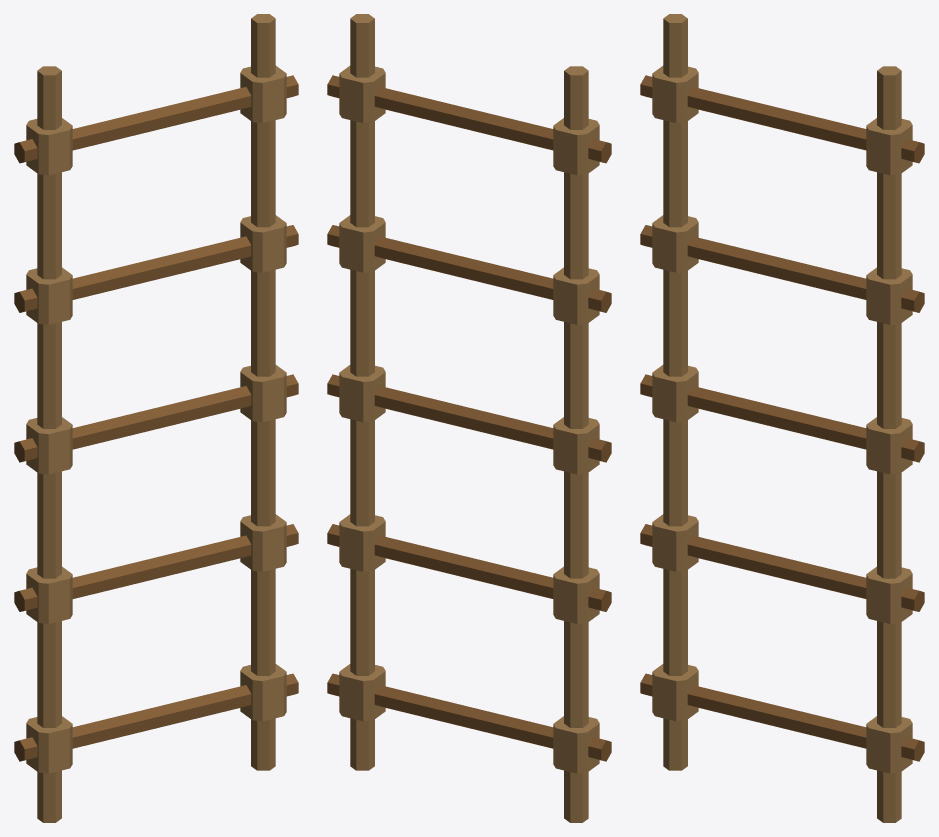
File: pz_ladder_segment.obj
3 views of the same model, side by side, from view 1: azimuth 30°, elevation 25°; view 2: azimuth 150°, elevation 25°; view 3: azimuth 330°, elevation 25° (orthographic).
Visible parts, largest first — view 1: pz_ladder_segment; view 2: pz_ladder_segment; view 3: pz_ladder_segment.
Part boxes in pixels (bbox=[...]): pz_ladder_segment: bbox=[14, 14, 298, 822]; pz_ladder_segment: bbox=[327, 14, 611, 822]; pz_ladder_segment: bbox=[640, 14, 924, 822].
Bounding box in the file's own units: 0.64 × 1.67 × 0.08.
